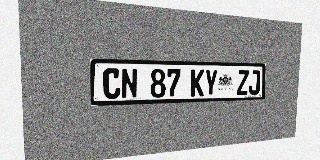7: (166, 69, 181, 97)
8: (150, 69, 166, 98)
C: (103, 68, 120, 99)
J: (248, 70, 260, 95)
K: (190, 69, 204, 97)
N: (121, 68, 138, 99)
Y: (204, 69, 218, 96)
Z: (237, 70, 249, 95)
